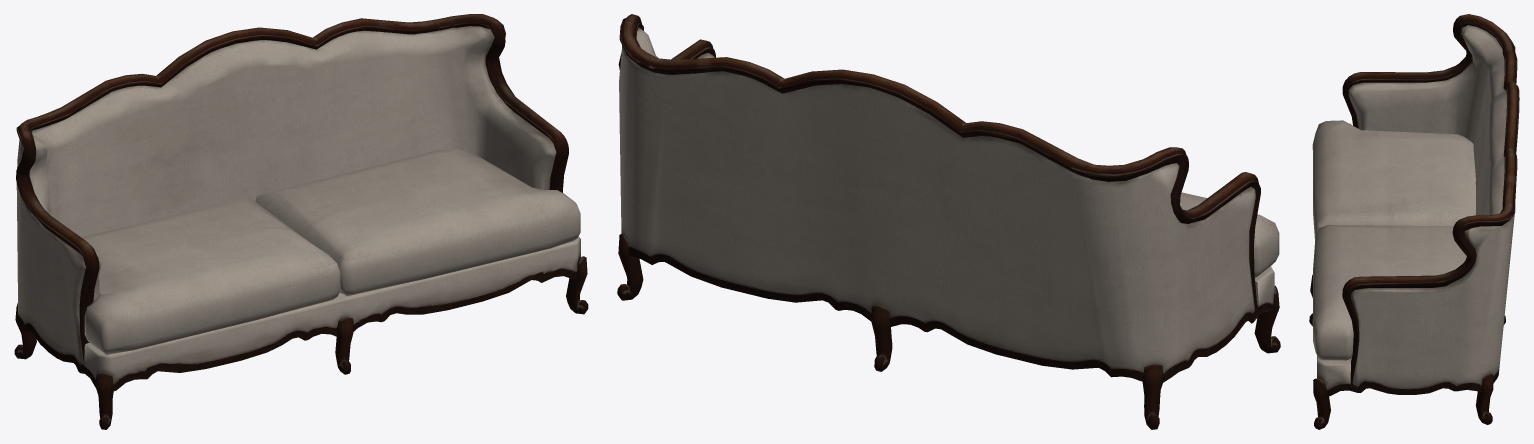
The model's file is Sofa_01.glb.
3 views of the same model, side by side, from view 1: azimuth 30°, elevation 25°; view 2: azimuth 150°, elevation 25°; view 3: azimuth 270°, elevation 25° (orthographic). The views are drawn at different scales.
Visible parts, largest first — view 1: Sofa_01; view 2: Sofa_01; view 3: Sofa_01.
Part boxes in pixels (x1,y1,x2,y2): Sofa_01: (14,14,588,429); Sofa_01: (617,14,1280,429); Sofa_01: (1309,14,1519,429).
Bounding box in the file's own units: 1.57 × 0.7953 × 0.658.
1 material, 1 textured.
